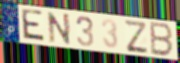3: (75, 15, 94, 48), (101, 18, 120, 51)
B: (150, 21, 174, 59)
E: (21, 7, 47, 43)
N: (46, 11, 72, 46)
Z: (123, 19, 150, 54)
